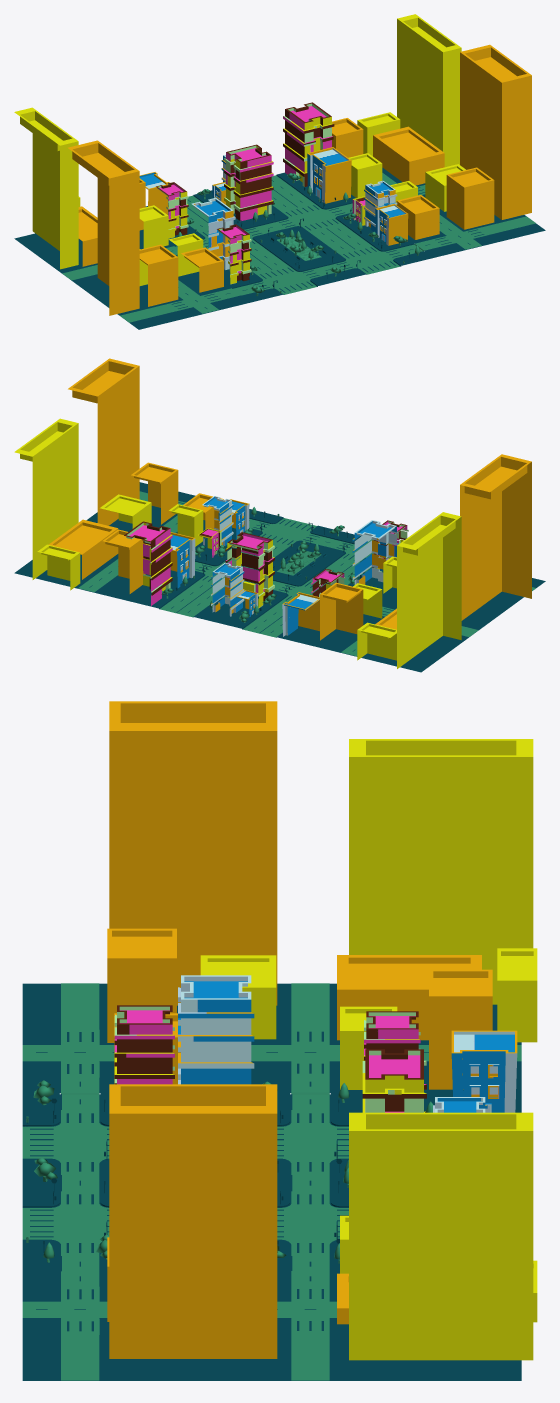
File: Street - Copy.fbx
3 renders of one model, top to bottom at view 1: azimuth 30°, elevation 25°; view 2: azimuth 150°, elevation 25°; view 3: azimuth 270°, elevation 25°, orthographic. The views are drawn at different scales.
Visible parts, largest first — view 1: Street2; view 2: Street2; view 3: Street2.
Part boxes in pixels (bbox=[...]): Street2: bbox=[14, 14, 545, 329]; Street2: bbox=[14, 358, 545, 672]; Street2: bbox=[22, 701, 537, 1380].
Size of the model in its own units: 102 by 31.76 by 53.64.
